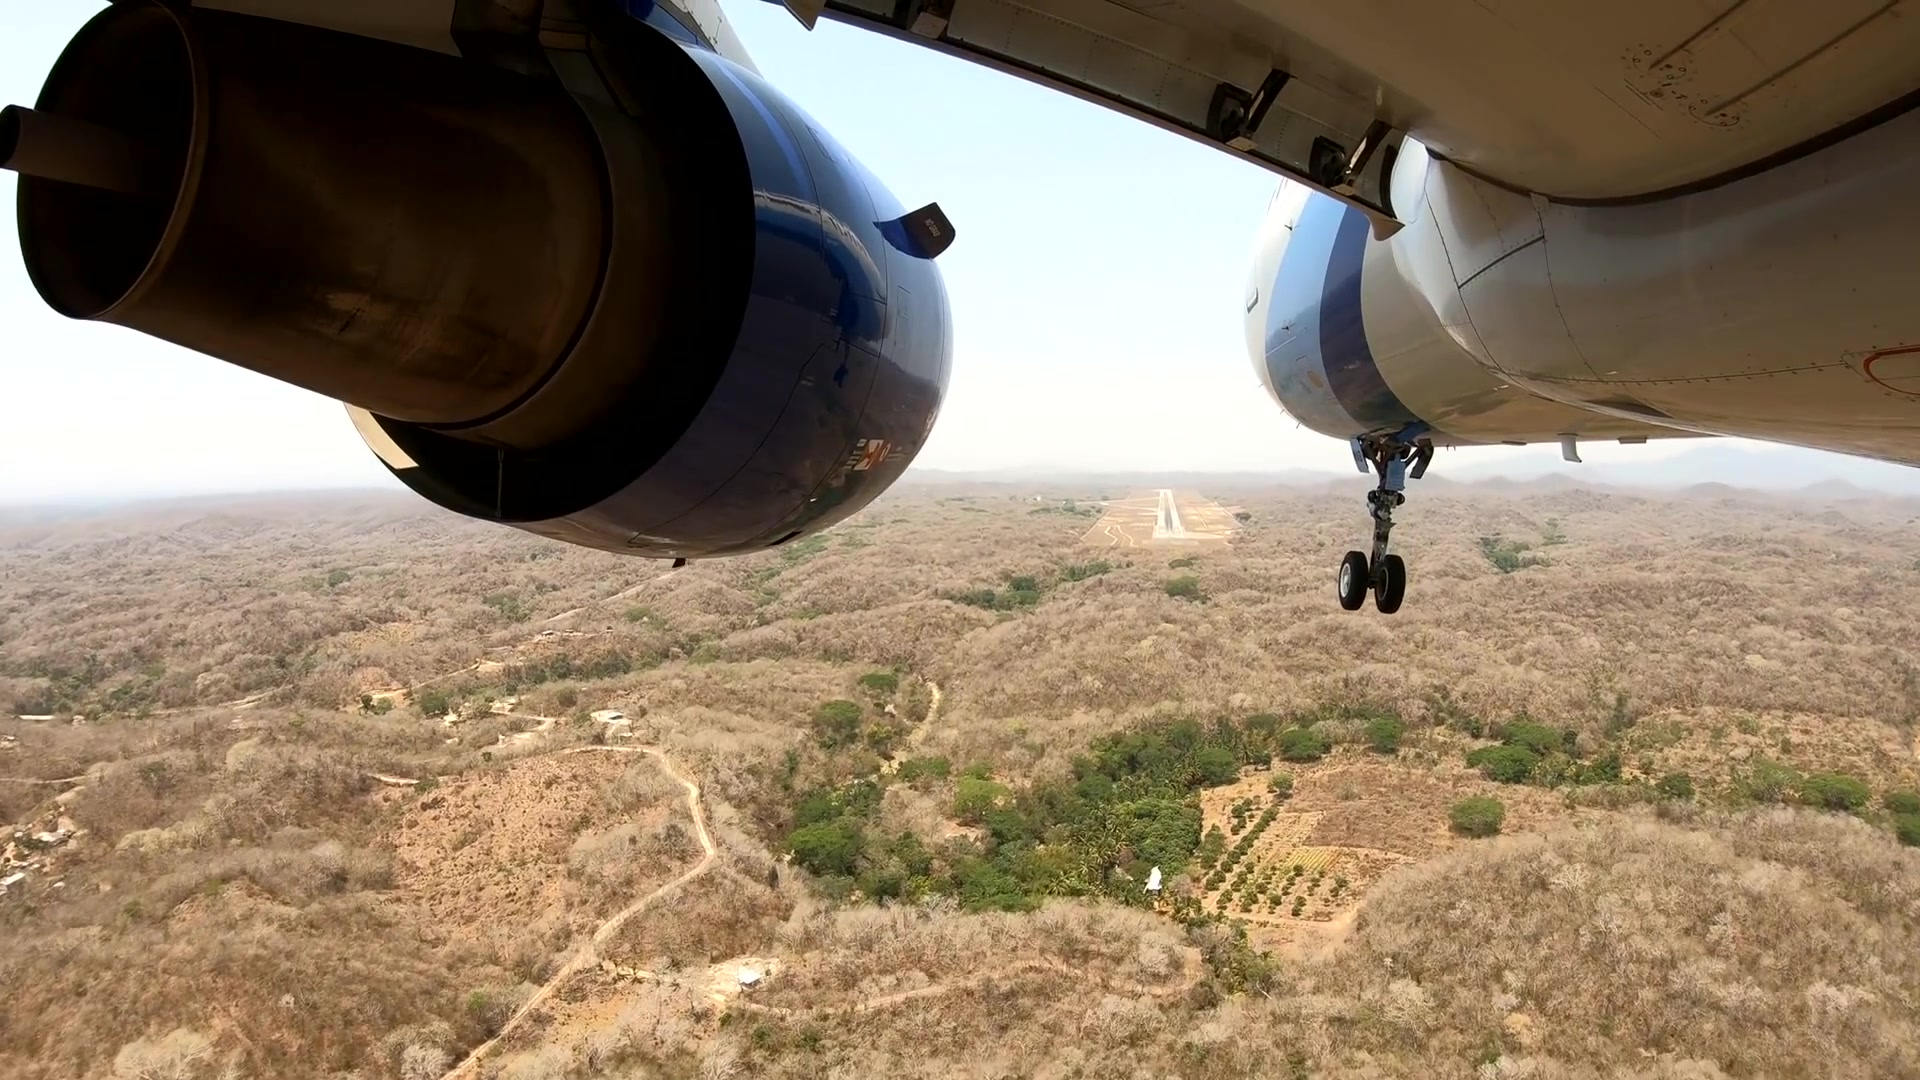runway: (1154, 489, 1184, 539)
